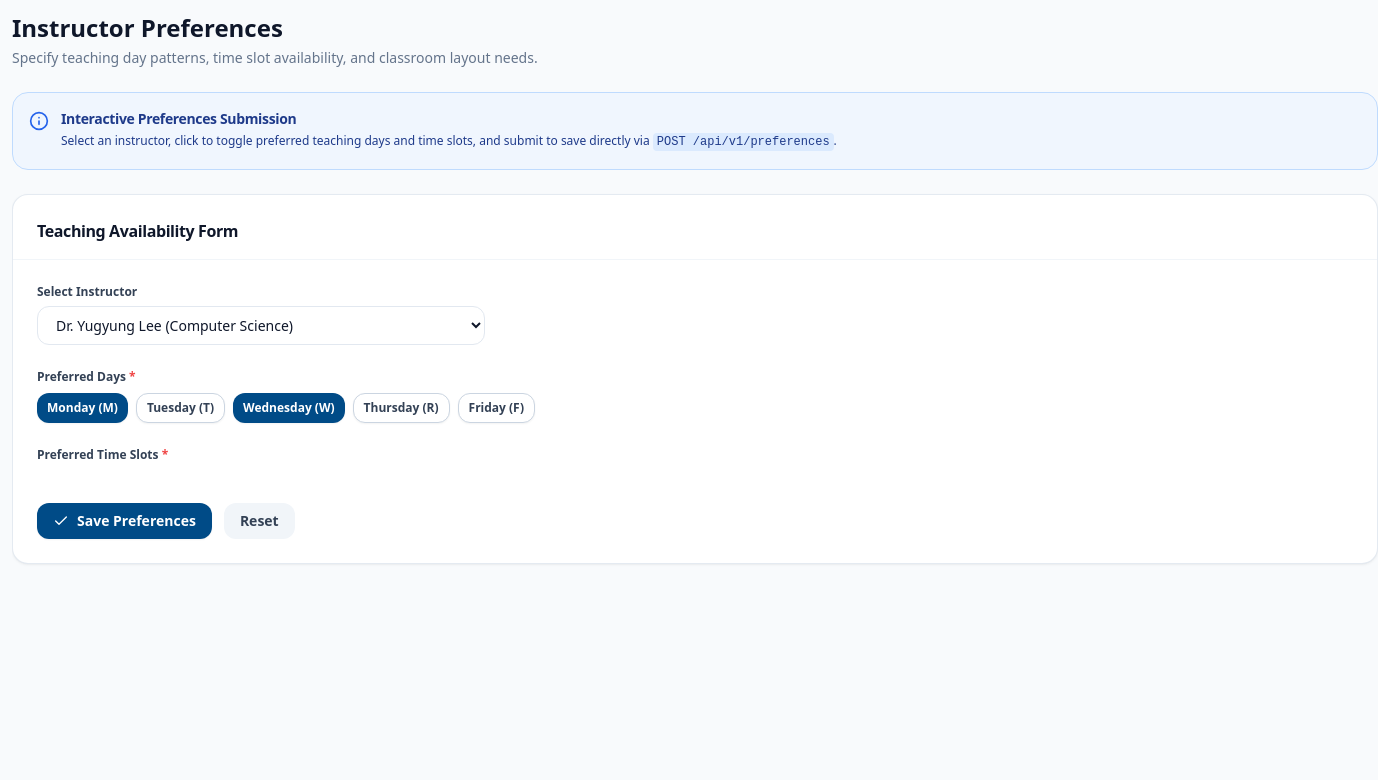
Test case: PreferencesPage Component › displays error toast when submitted without day or time slot
// Click Save without selecting any time slot
Step 1. Click the button "Save Preferences" → (124,520), box [37,502,212,538]
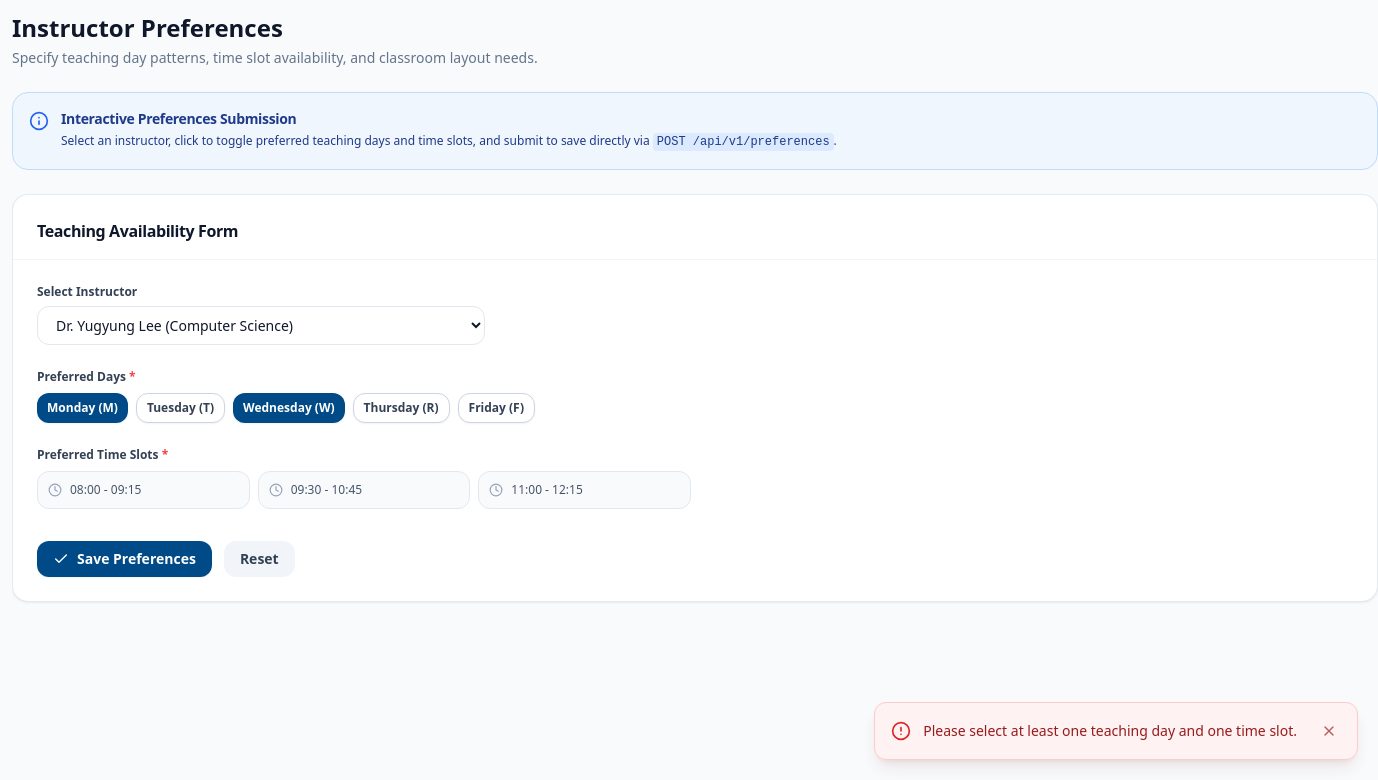
Check: the text "Please select at least one teaching day and one time slot." is shown, box [923,721,1305,741]
